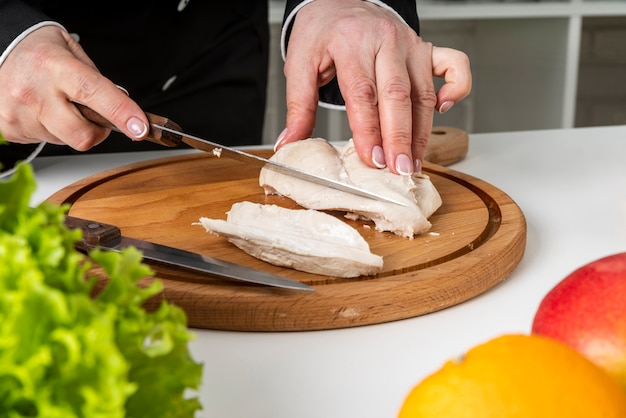knife: (154, 121, 409, 207), (67, 215, 317, 292)
